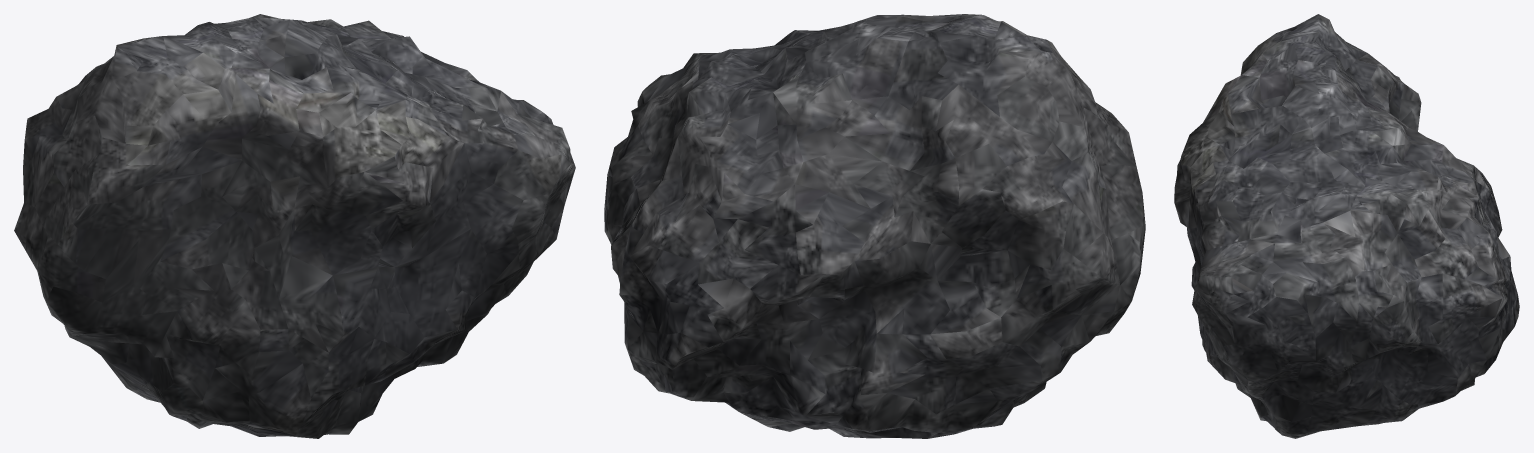
Rendered from asteroid_09.glb.
3 views of the same model, side by side, from view 1: azimuth 30°, elevation 25°; view 2: azimuth 150°, elevation 25°; view 3: azimuth 270°, elevation 25° (orthographic). The views are drawn at different scales.
Visible parts, largest first — view 1: Mesh_0; view 2: Mesh_0; view 3: Mesh_0.
Boxes of the visible parts, left/top/right/bottom form: Mesh_0: left=14, top=14, right=575, bottom=438; Mesh_0: left=604, top=14, right=1145, bottom=438; Mesh_0: left=1174, top=14, right=1519, bottom=438.
Size of the model in its own units: 1.9 by 1.49 by 1.41.
1 material, 1 textured.
